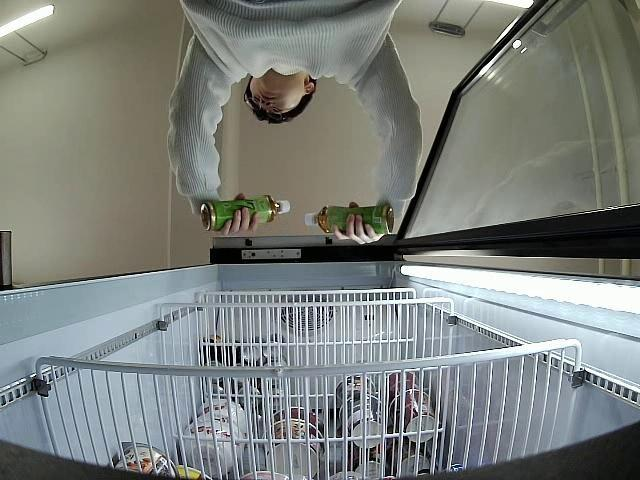19_17cha: (300, 200, 396, 239), (200, 196, 291, 231)
